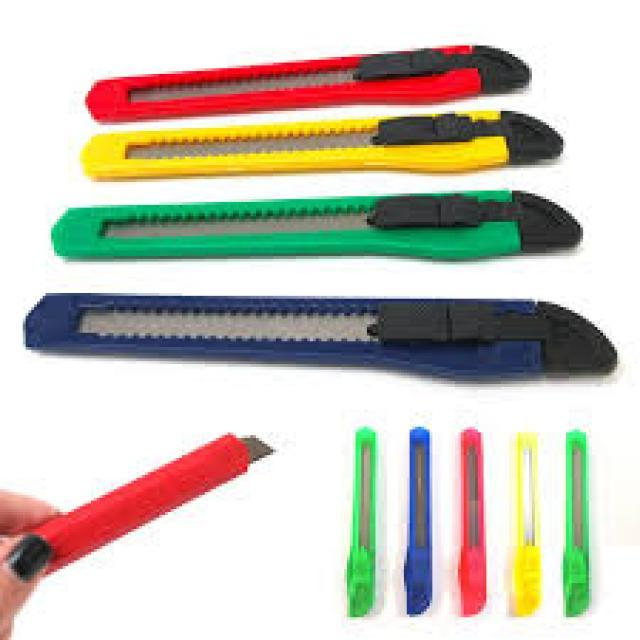cutter: (14, 280, 626, 396), (2, 419, 286, 596), (52, 182, 589, 274), (75, 104, 572, 184), (76, 39, 536, 124), (454, 426, 499, 622), (554, 426, 594, 624), (344, 420, 382, 626), (507, 427, 547, 620), (396, 422, 434, 622)
